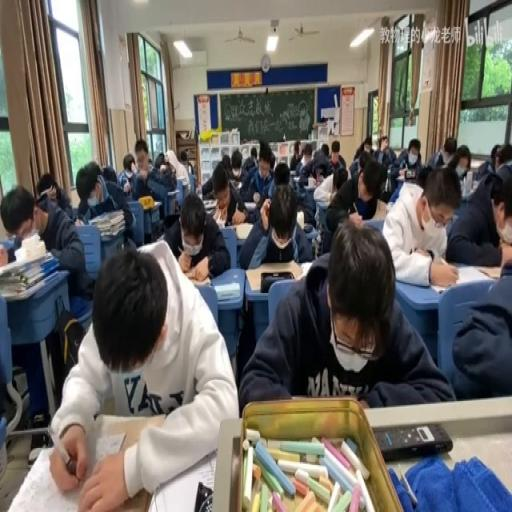calculator: (148, 448, 221, 509), (422, 260, 498, 290), (242, 262, 302, 292), (94, 429, 128, 458), (312, 196, 329, 230), (213, 282, 241, 300), (0, 235, 18, 259), (166, 188, 179, 214), (234, 222, 252, 240), (458, 181, 476, 199), (300, 260, 320, 276), (138, 196, 162, 209), (186, 272, 210, 284), (430, 283, 452, 294), (202, 196, 217, 209), (306, 175, 316, 188), (243, 201, 256, 209), (292, 174, 302, 184), (223, 222, 235, 229), (395, 172, 405, 179), (288, 171, 295, 176)
paper: (51, 239, 237, 508), (240, 219, 450, 414), (0, 176, 85, 302), (382, 164, 462, 287), (236, 180, 314, 268), (447, 164, 512, 266), (164, 185, 230, 279), (326, 155, 389, 246), (75, 159, 134, 255), (130, 136, 174, 228), (390, 135, 422, 191), (429, 136, 460, 175), (116, 154, 138, 194), (226, 179, 248, 219), (474, 145, 498, 181), (371, 134, 396, 166), (350, 138, 372, 173), (35, 174, 59, 204), (329, 140, 348, 174), (494, 142, 512, 169), (310, 151, 330, 175), (272, 161, 290, 186), (178, 148, 194, 176), (230, 148, 242, 181), (290, 140, 303, 170), (101, 165, 117, 185), (334, 170, 346, 194), (154, 152, 166, 171), (302, 146, 312, 164), (320, 142, 330, 156), (222, 154, 231, 169), (165, 160, 174, 174), (269, 152, 275, 172), (250, 145, 256, 161), (147, 156, 153, 168)
person: (373, 422, 453, 461), (405, 168, 414, 178)
